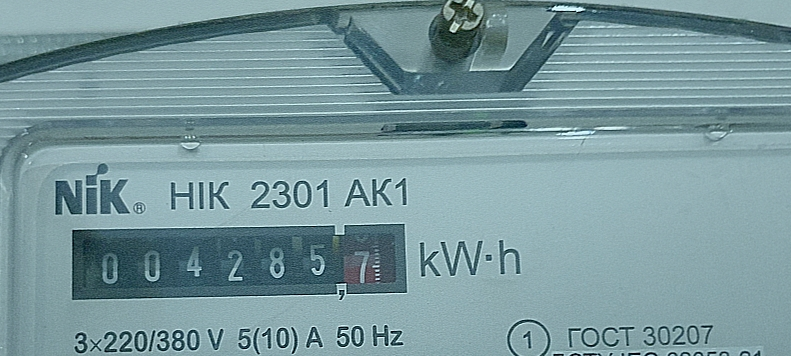0: (140, 247, 162, 284), (98, 250, 119, 285)
2: (224, 247, 244, 283)
4: (184, 244, 202, 279)
5: (305, 241, 326, 277)
7: (350, 249, 370, 285)
8: (264, 244, 286, 281)
screen: (56, 213, 421, 313)
